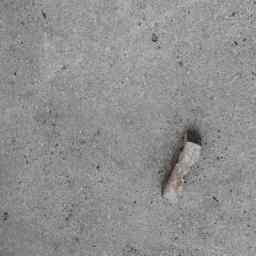FOD: (160, 128, 204, 203)
